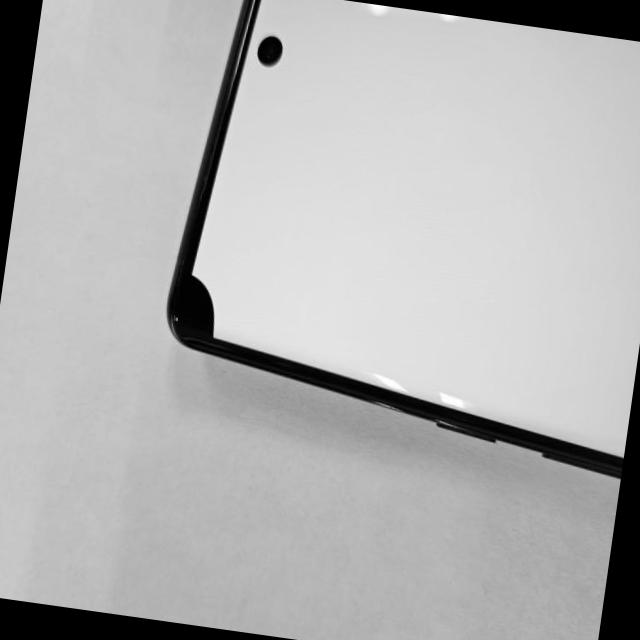dead pixel: (142, 204, 258, 404)
